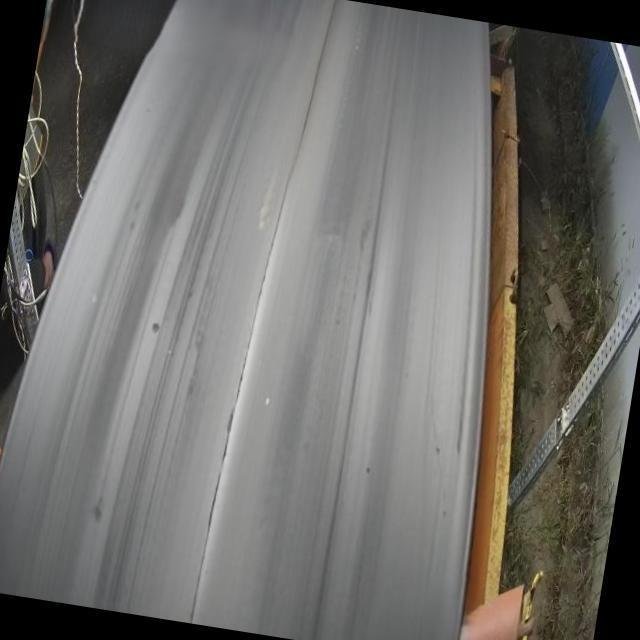Tear: (182, 1, 340, 626)
